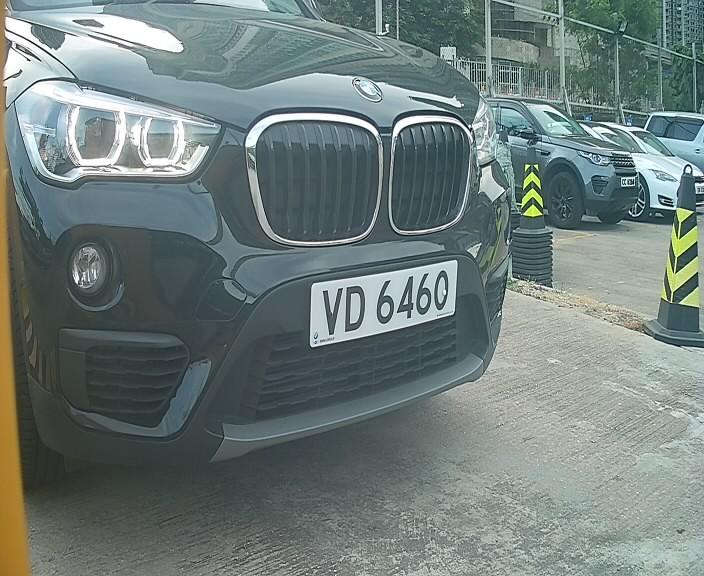privatecar: (4, 19, 551, 453)
